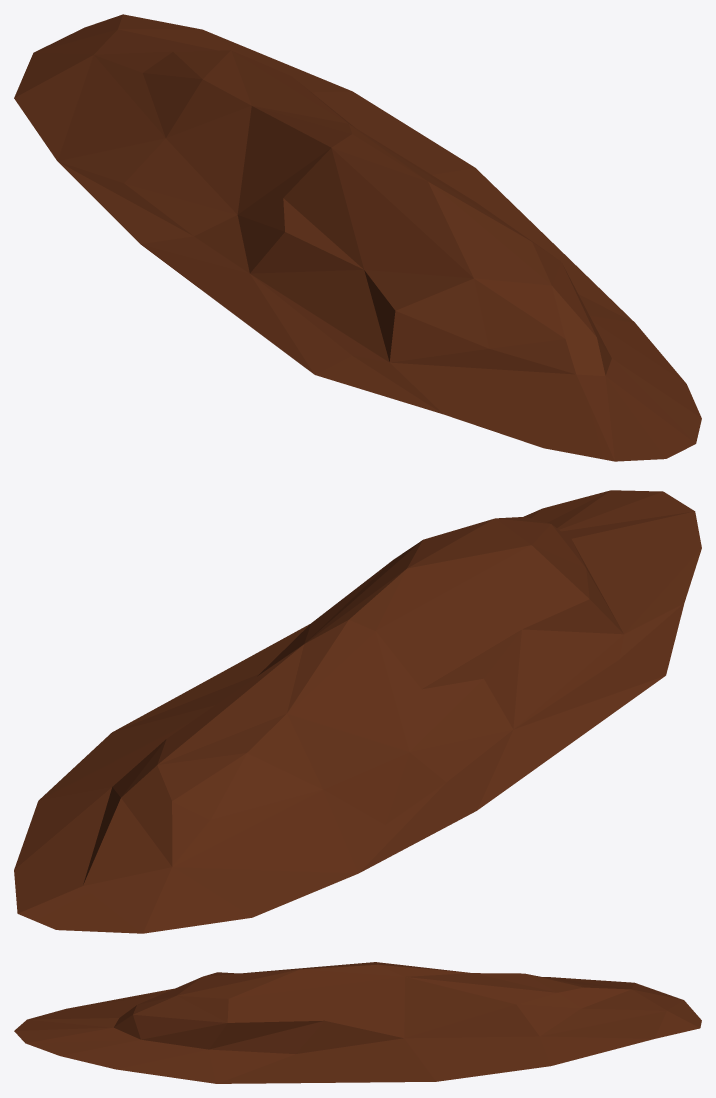
Rendered from monte_terra.glb.
The picture shows the model from 3 angles, top to bottom: view 1: azimuth 30°, elevation 25°; view 2: azimuth 150°, elevation 25°; view 3: azimuth 270°, elevation 25°; orthographic projection. The views are drawn at different scales.
Parts seen in each view (by area): view 1: DirtPileG; view 2: DirtPileG; view 3: DirtPileG.
Boxes of the visible parts, bbox=[...] form: DirtPileG: bbox=[14, 14, 701, 461]; DirtPileG: bbox=[14, 490, 701, 933]; DirtPileG: bbox=[14, 962, 701, 1083].
Size of the model in its own units: 0.8195 by 0.2925 by 2.41.
1 material, 1 textured.
